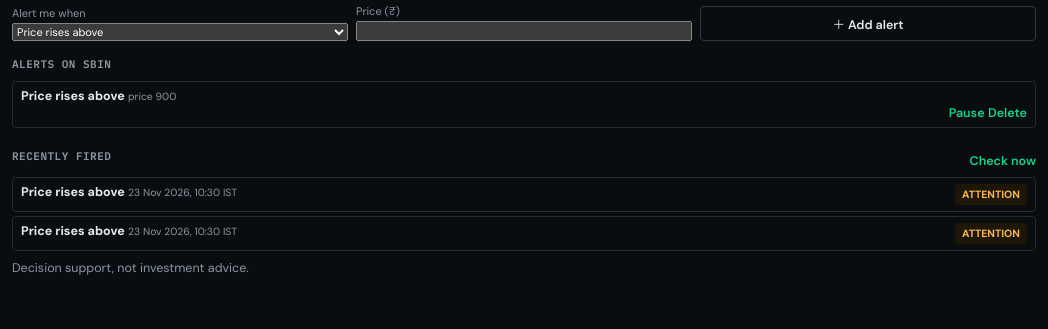
Test: StockAlerts › offers RSI, % move and MA-cross alerts with integer periods sent as numbers
Expected: the button "Pause" is shown, [949,105,984,121]
Select "RSI crosses a level" in the dropdown named "Alert type" at (180, 32), box [12,23,348,41]
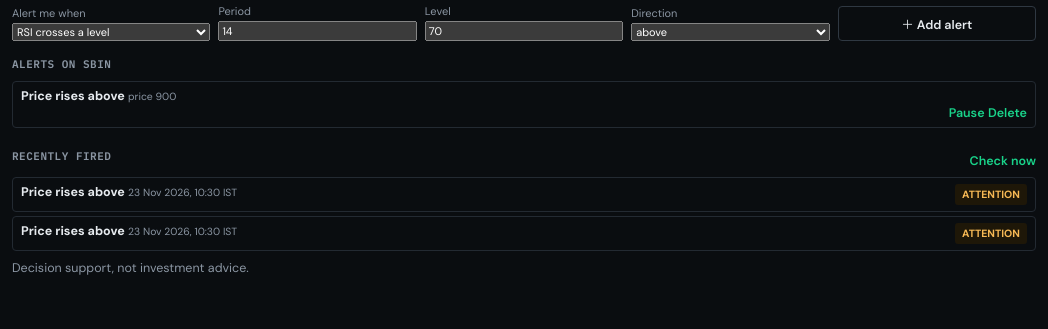
Replace the text in the field labelled "Level" with "25" at (524, 31), box [425,21,623,41]
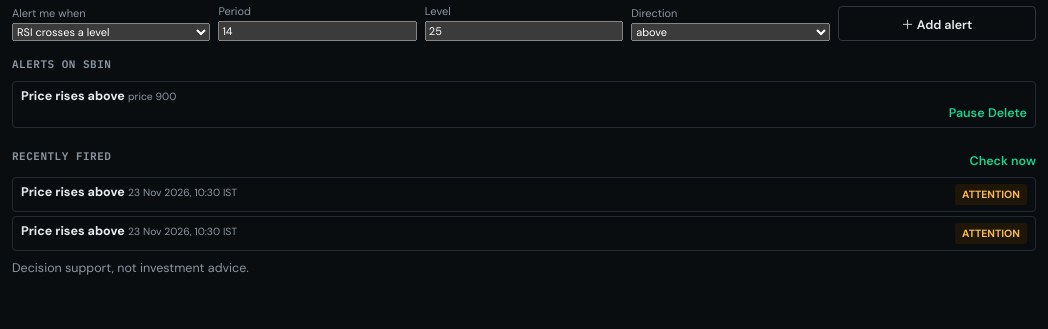
Select "below" in the dropdown labelled "Direction" at (730, 32), box [631,23,830,41]
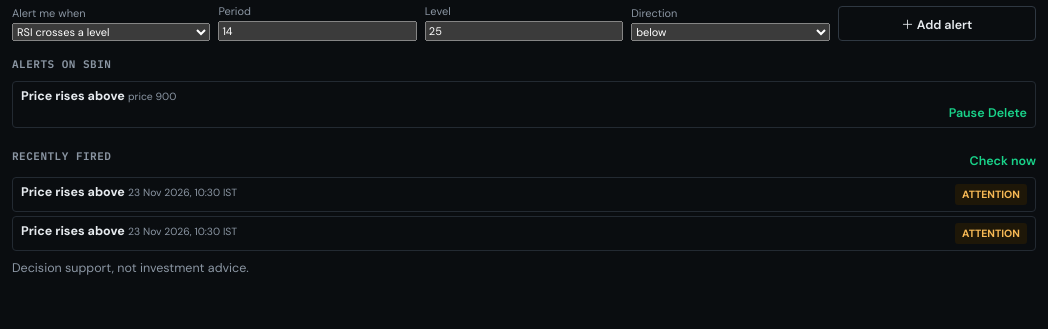
Click the button "＋ Add alert" at (937, 24), box [838,6,1036,41]
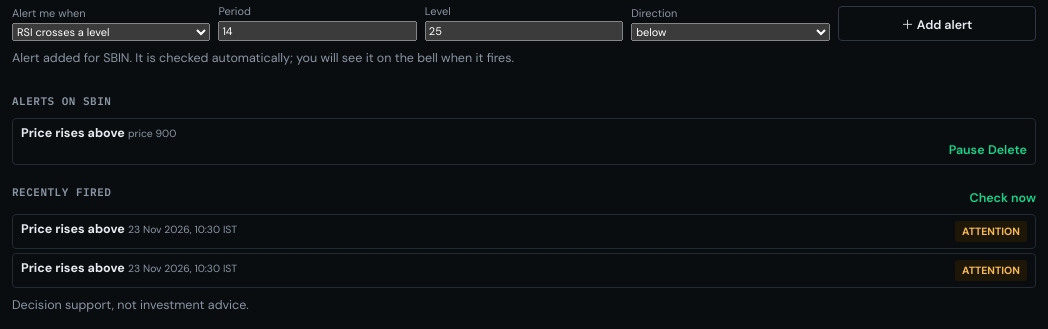
Select "Moving averages cross" in the dropdown named "Alert type" at (111, 32), box [12,23,210,41]
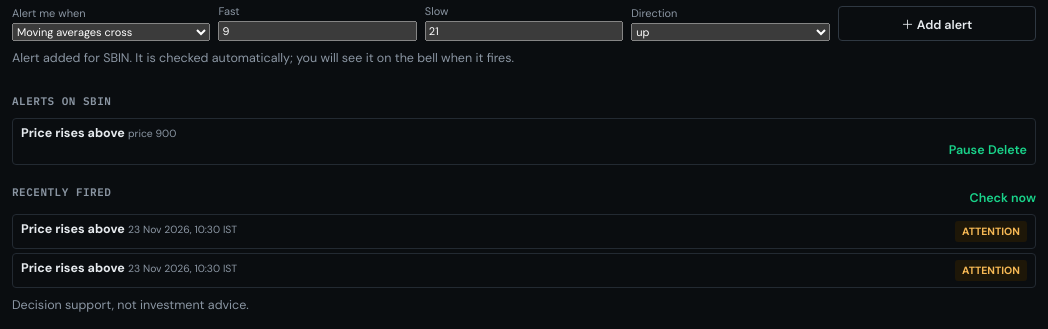
Expected: the field labelled "Fast" holds "9", [218,21,417,41]
